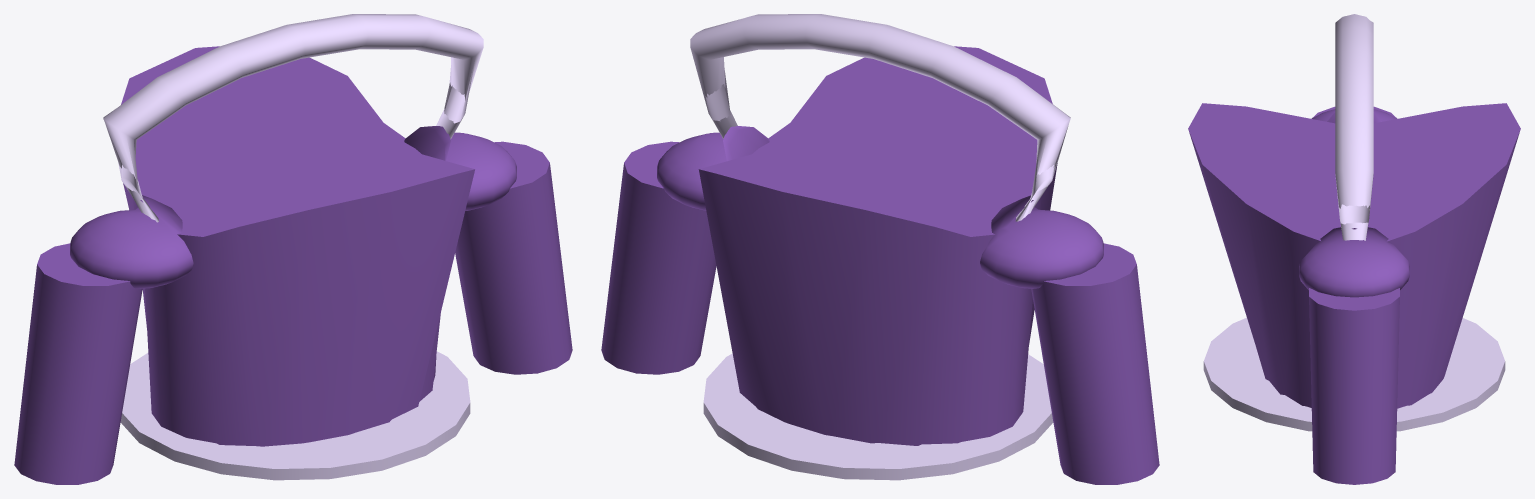
File: top_ancient_3.glb
The picture shows the model from 3 angles, left to right: view 1: azimuth 30°, elevation 25°; view 2: azimuth 150°, elevation 25°; view 3: azimuth 270°, elevation 25°; orthographic projection. The views are drawn at different scales.
Size of the model in its own units: 0.7925 by 0.5464 by 0.4947.
